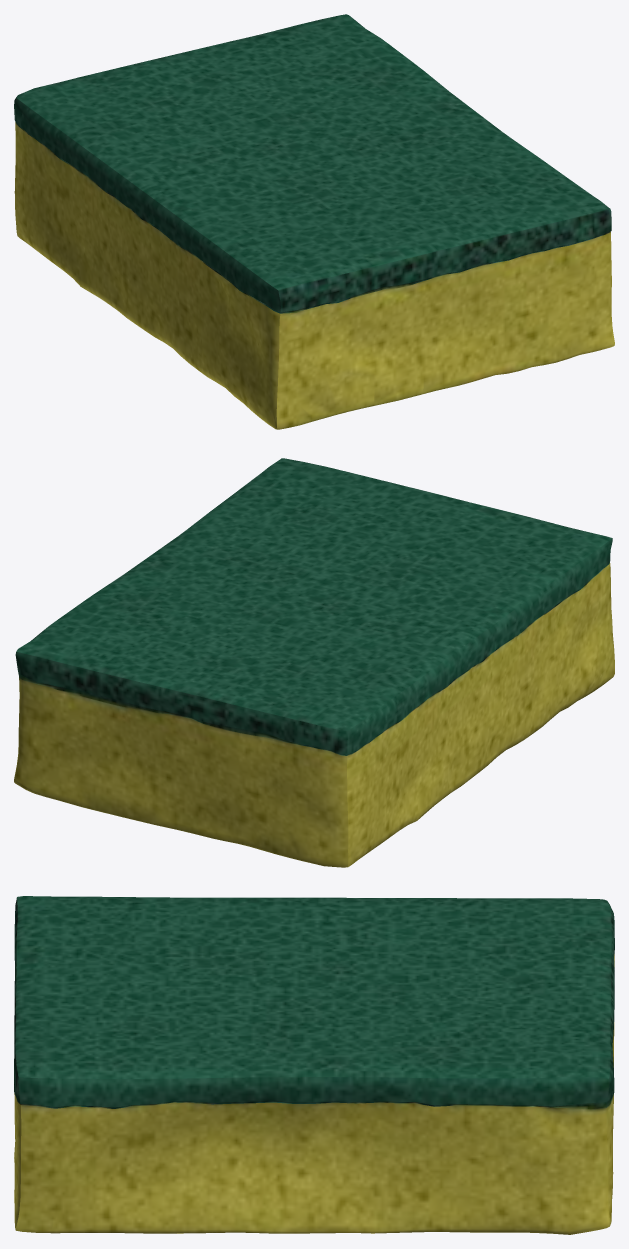
Rendered from cleaning_sponge_e01.glb.
The picture shows the model from 3 angles, top to bottom: view 1: azimuth 30°, elevation 25°; view 2: azimuth 150°, elevation 25°; view 3: azimuth 270°, elevation 25°; orthographic projection. The views are drawn at different scales.
Visible parts, largest first — view 1: part0; view 2: part0; view 3: part0.
Part boxes in pixels (bbox=[...]): part0: bbox=[14, 14, 614, 429]; part0: bbox=[14, 458, 614, 867]; part0: bbox=[14, 896, 614, 1234].
Size of the model in its own units: 0.059 by 0.0244 by 0.0796.
1 material, 1 textured.
